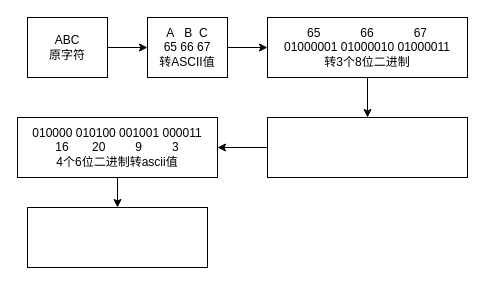
Image size: 485x285. Some labels were removed from this diagram. Each missing label, with the centre of its shape:
01000001 01000010 01000011 010000 010100 001001 000011 3个8位二进制 转4个6位二进制: the point at 367,147
16 20 9 3 Q U J D 4个ascii值转base64对应的值: the point at 117,237
